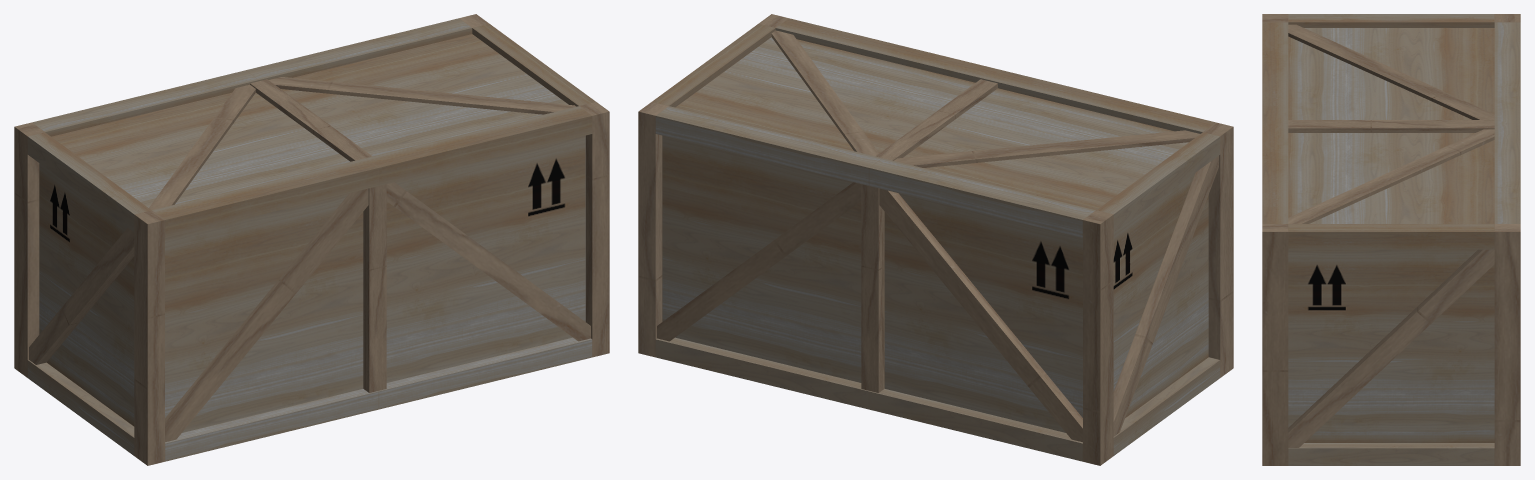
File: Crate2Large.fbx
3 renders of one model, left to right at view 1: azimuth 30°, elevation 25°; view 2: azimuth 150°, elevation 25°; view 3: azimuth 270°, elevation 25°, orthographic. The views are drawn at different scales.
Parts seen in each view (by area): view 1: Crate2Large; view 2: Crate2Large; view 3: Crate2Large.
Boxes of the visible parts, left/top/right/bottom form: Crate2Large: left=14, top=14, right=609, bottom=465; Crate2Large: left=638, top=14, right=1233, bottom=465; Crate2Large: left=1262, top=14, right=1520, bottom=465.
Size of the model in its own units: 4 by 2 by 2.
